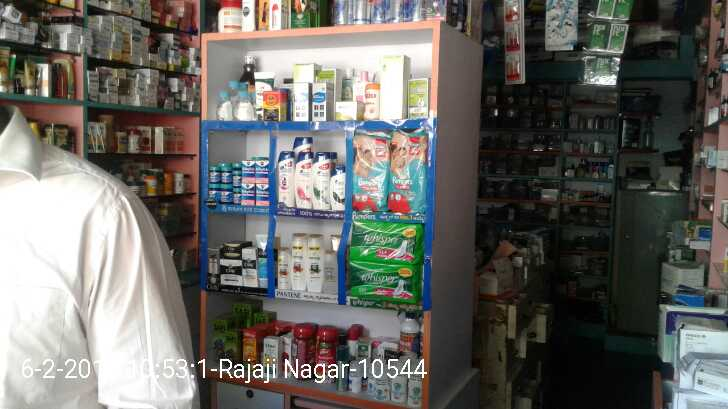beauty: (311, 149, 331, 214), (307, 231, 326, 296), (291, 151, 312, 208), (289, 229, 305, 289), (329, 163, 348, 208), (220, 257, 242, 288), (241, 247, 256, 285), (277, 248, 289, 289)
pharmacy: (348, 132, 392, 213), (348, 217, 420, 262), (388, 131, 423, 218), (345, 263, 418, 303), (239, 160, 256, 185), (256, 158, 271, 181), (256, 182, 269, 205), (219, 162, 232, 184), (216, 182, 229, 204), (241, 184, 253, 203), (208, 178, 217, 198), (207, 165, 215, 180)
